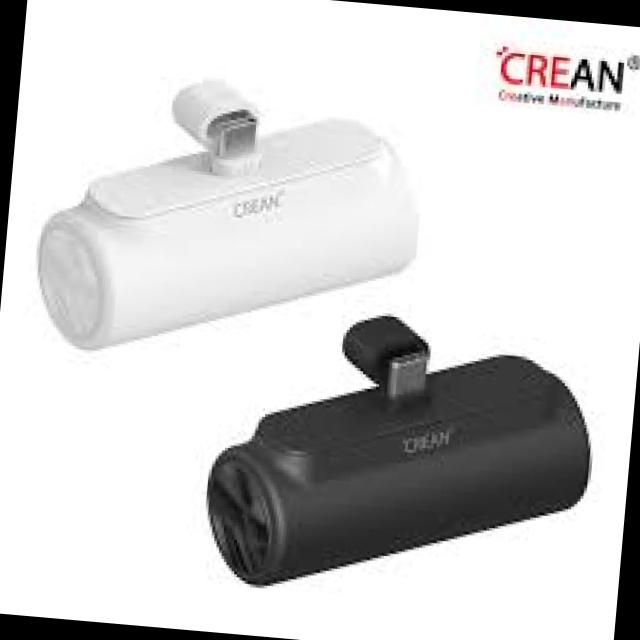portable-charger: (193, 295, 606, 624), (24, 61, 434, 383)
